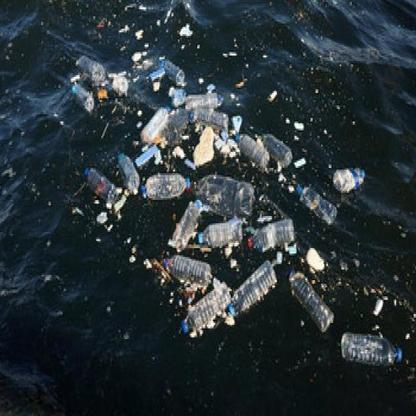plastic bottle: (288, 272, 335, 332), (190, 174, 254, 216), (229, 261, 276, 316), (179, 285, 231, 332), (341, 332, 402, 367), (171, 199, 203, 249), (296, 185, 337, 224), (162, 255, 212, 286), (246, 220, 294, 249), (234, 132, 270, 166), (198, 220, 243, 247), (84, 168, 118, 202), (144, 174, 190, 199), (260, 132, 292, 166), (141, 104, 166, 141), (74, 55, 108, 82), (116, 153, 140, 191), (190, 106, 229, 129), (68, 82, 94, 113), (157, 55, 186, 82), (335, 166, 366, 190), (184, 91, 222, 107), (144, 69, 166, 81)
